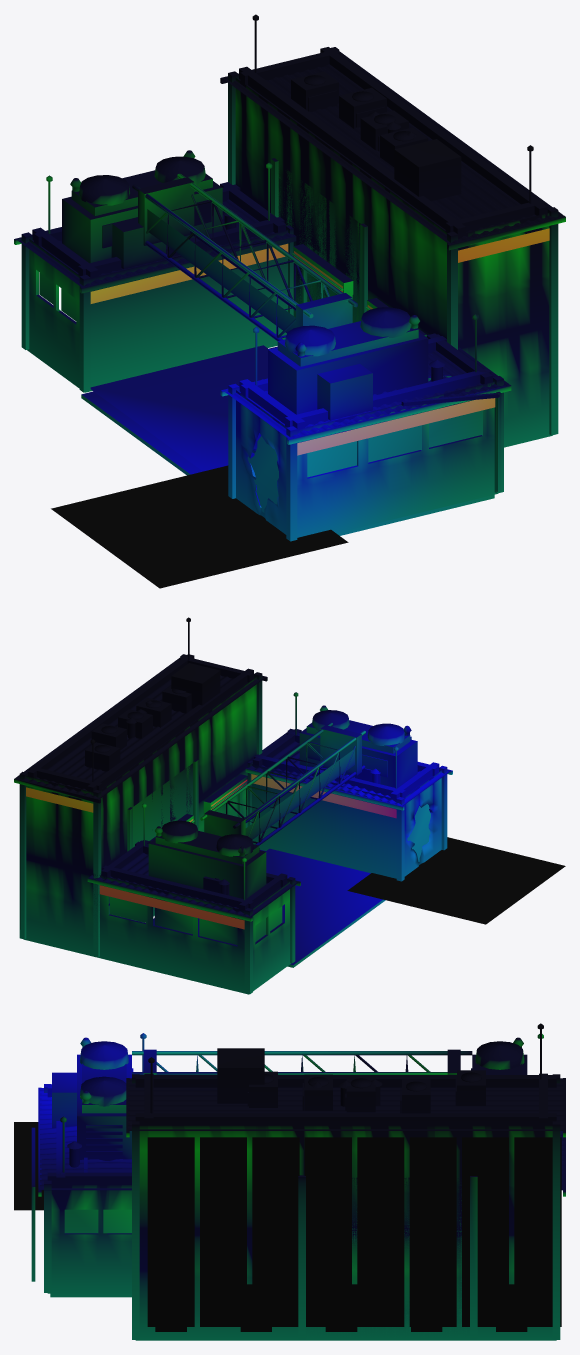
The model's file is repairbay_damaged.glb.
3 renders of one model, top to bottom at view 1: azimuth 30°, elevation 25°; view 2: azimuth 150°, elevation 25°; view 3: azimuth 270°, elevation 25°, orthographic. The views are drawn at different scales.
Parts seen in each view (by area): view 1: lod0; view 2: lod0; view 3: lod0.
Boxes of the visible parts, <box> form: lod0: <box>14,14,565,588</box>; lod0: <box>14,617,565,994</box>; lod0: <box>14,1023,565,1340</box>.
Size of what is drawn, in the model's own units: 19.68 by 11.86 by 21.07.
